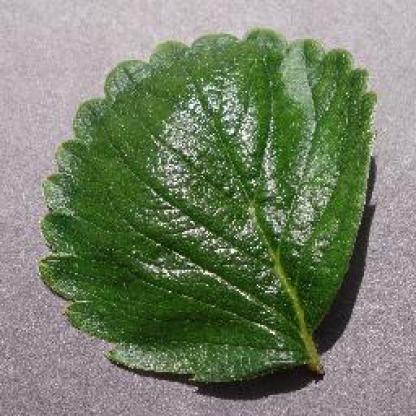healthy: (25, 19, 396, 406)
